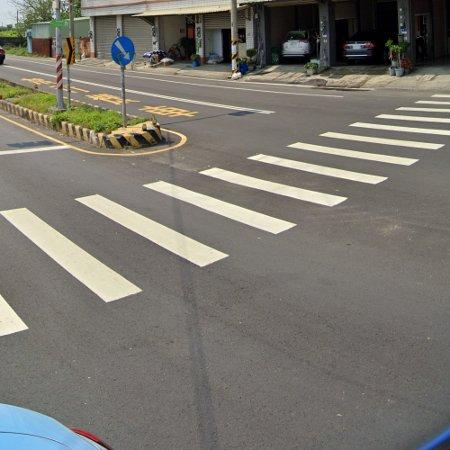crosswalks: (0, 92, 450, 343)
